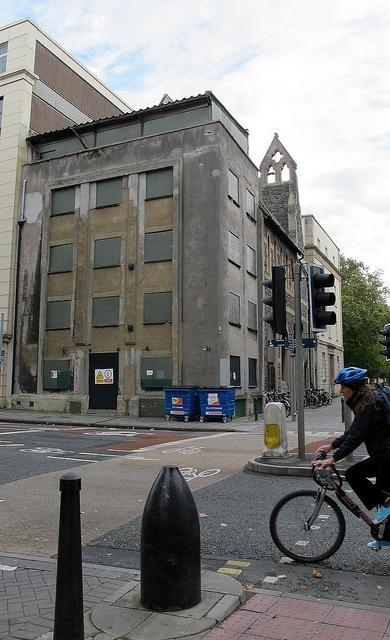bicycle: (276, 448, 382, 565), (264, 388, 292, 418), (315, 386, 332, 405), (304, 394, 324, 406)
